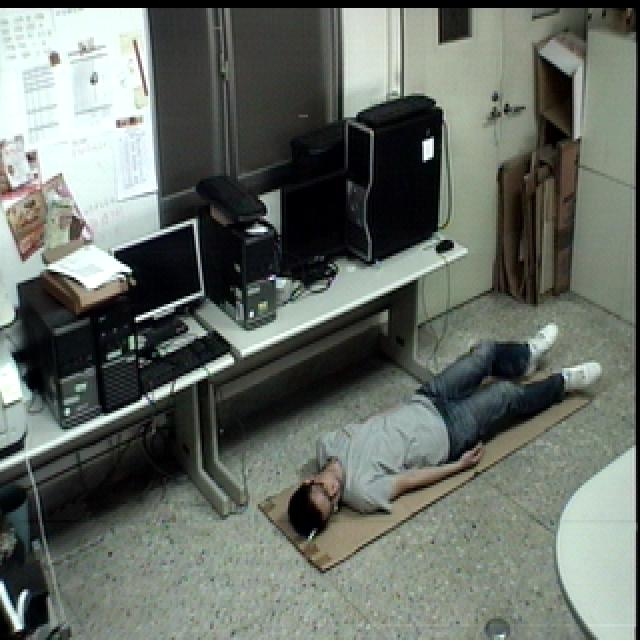lie: (274, 312, 606, 544)
